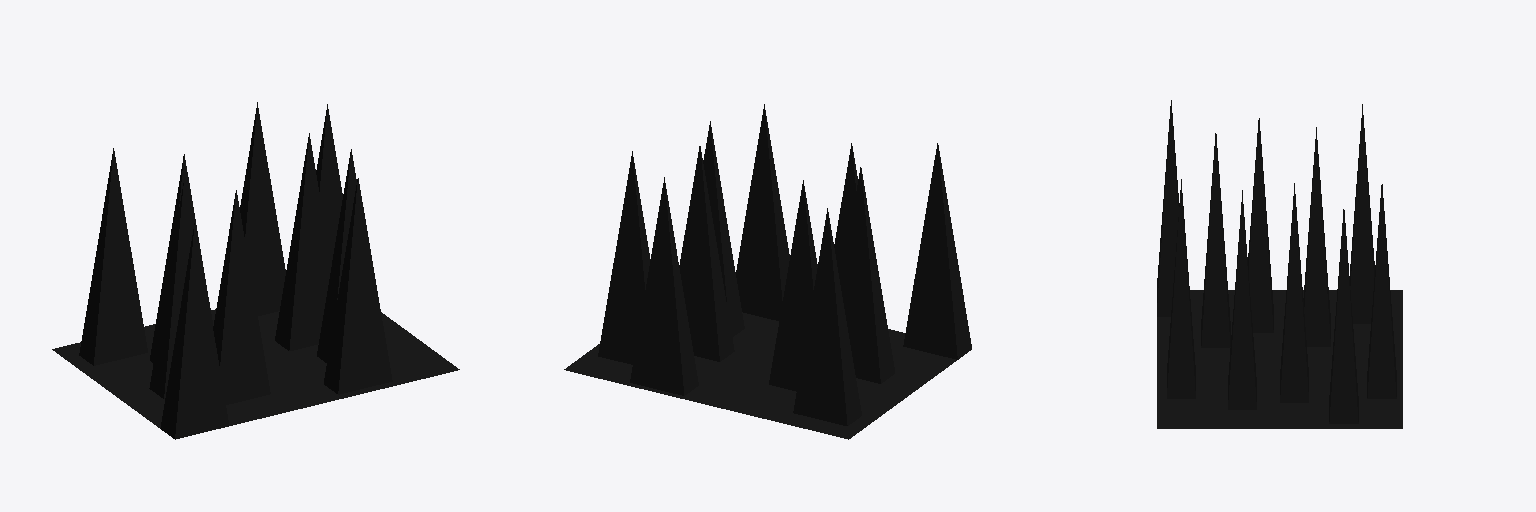
File: spikes.obj
The picture shows the model from 3 angles: view 1: azimuth 30°, elevation 25°; view 2: azimuth 150°, elevation 25°; view 3: azimuth 270°, elevation 25°; orthographic projection.
Parts seen in each view (by area): view 1: d_model:skpE45D_001; view 2: d_model:skpE45D_001; view 3: d_model:skpE45D_001.
Boxes of the visible parts, box(x1,y1,x2,y2) form: d_model:skpE45D_001: box(52, 102, 459, 439); d_model:skpE45D_001: box(564, 104, 971, 439); d_model:skpE45D_001: box(1157, 100, 1402, 428).
Size of the model in its own units: 1.2 by 0.8314 by 0.8969.